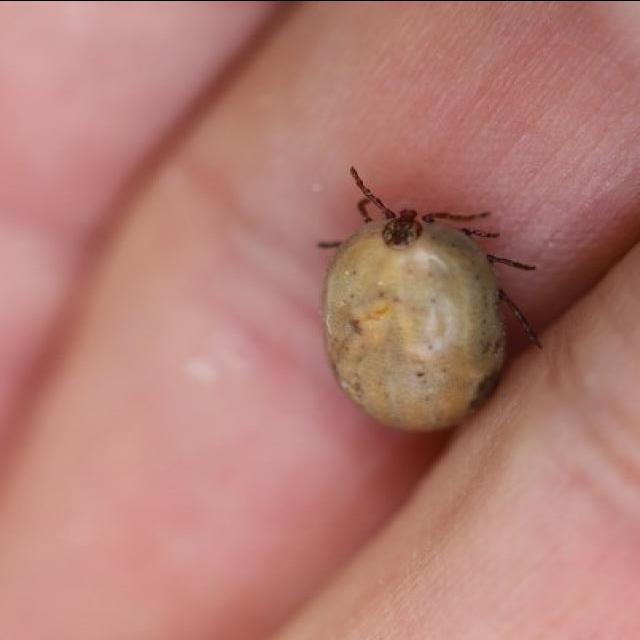Dermacentor Reticulatus-F-Fed: (317, 164, 541, 431)
